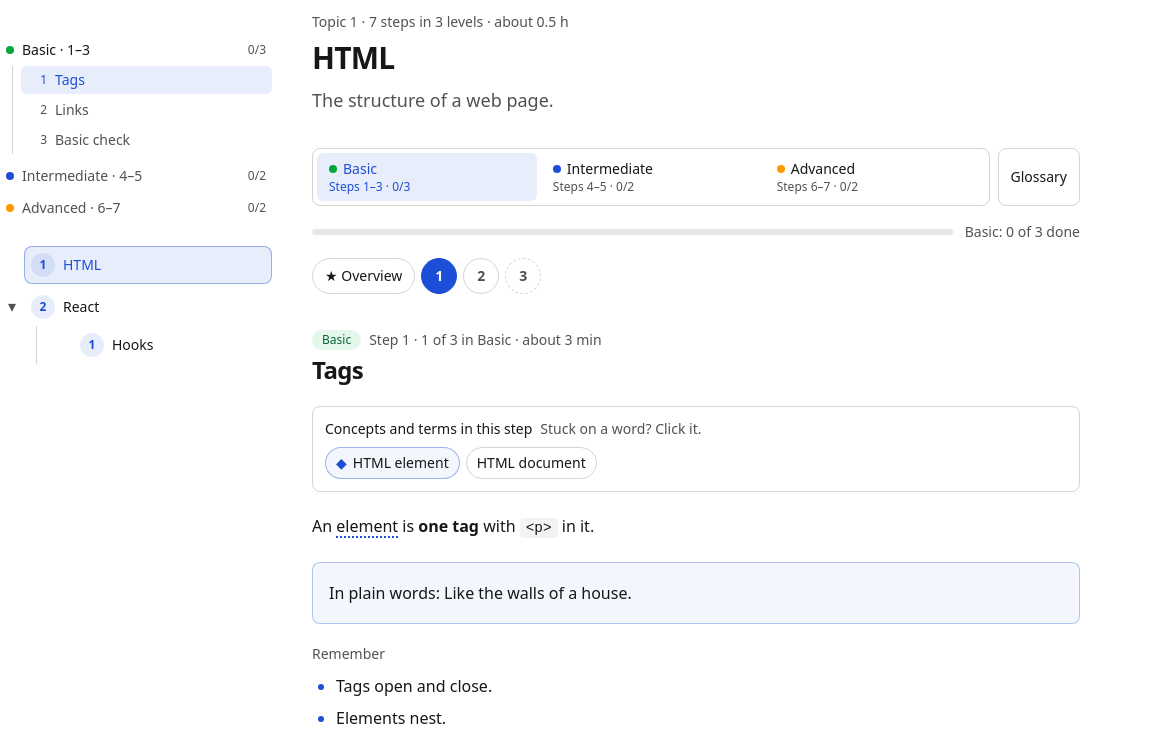
Test: GlossaryPanel › opens beside the step when a word is clicked and explains it
The width and height of the screenshot is (1152, 732).
Click the link "element": [367, 526] box x1=336 y1=515 x2=398 y2=537
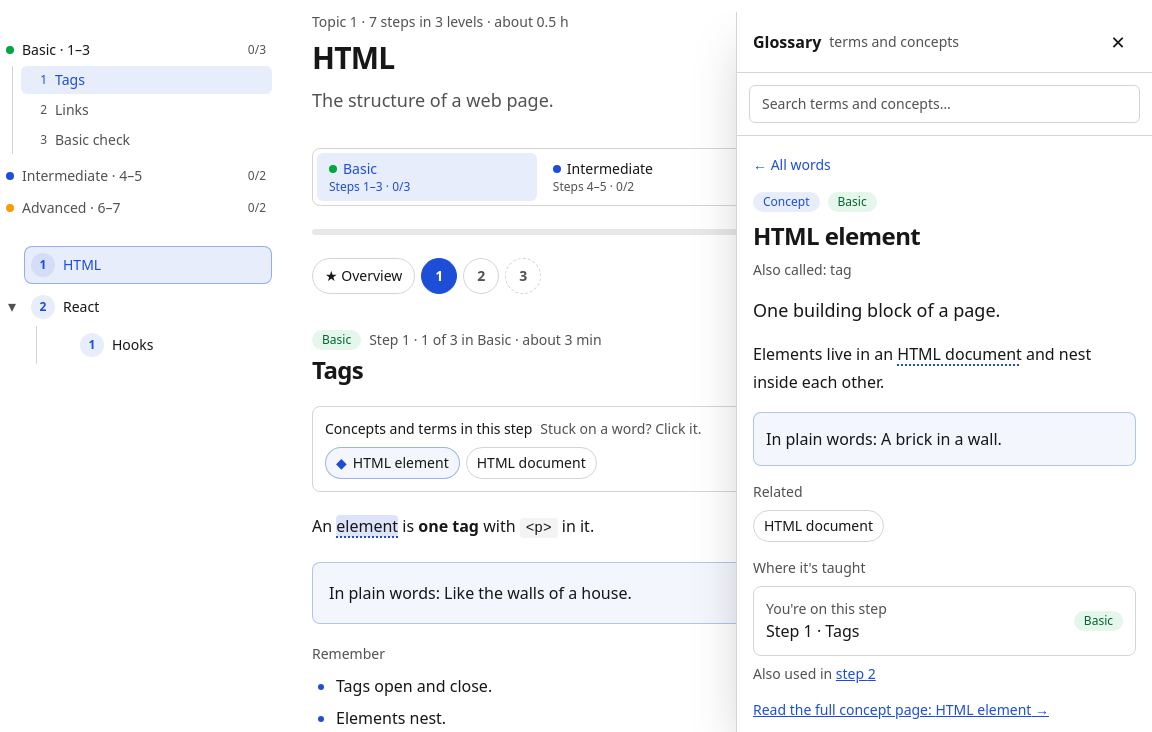
Now the text "Concept" is shown, box x1=753 y1=192 x2=820 y2=212
Now the text "Also called: tag" is shown, box x1=753 y1=260 x2=852 y2=279
Now the text "One building block of a page." is shown, box x1=753 y1=298 x2=1000 y2=322
